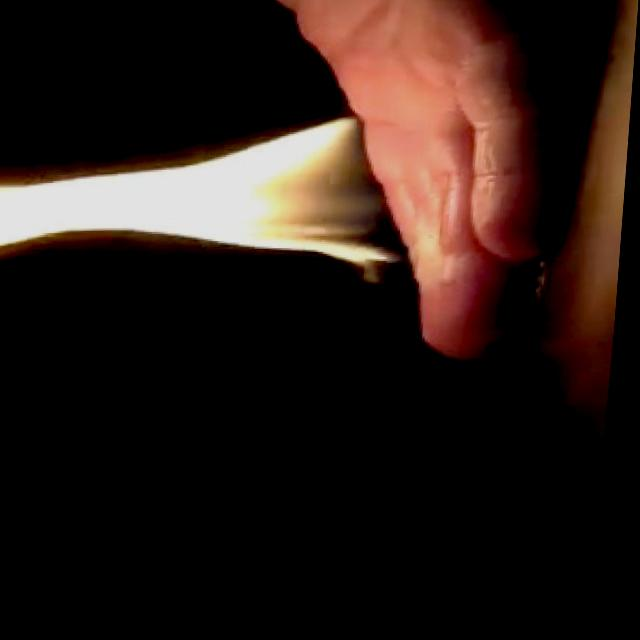Fire: (0, 107, 427, 285)
